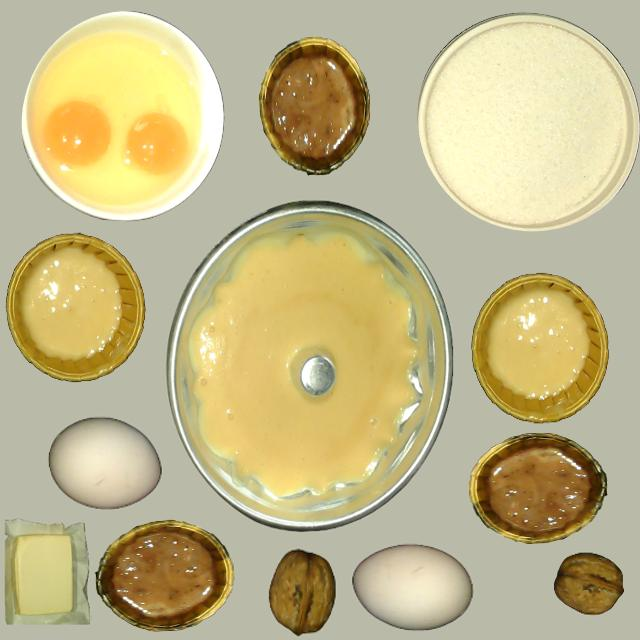Egg: (123, 107, 197, 186), (42, 100, 112, 170)
Sugar: (417, 12, 637, 230)
Walnut: (254, 543, 351, 639), (554, 554, 623, 614)
